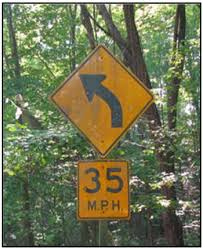curveLeft: (50, 43, 156, 155)
